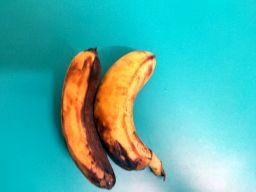banana: (92, 49, 168, 182), (59, 46, 118, 191)
